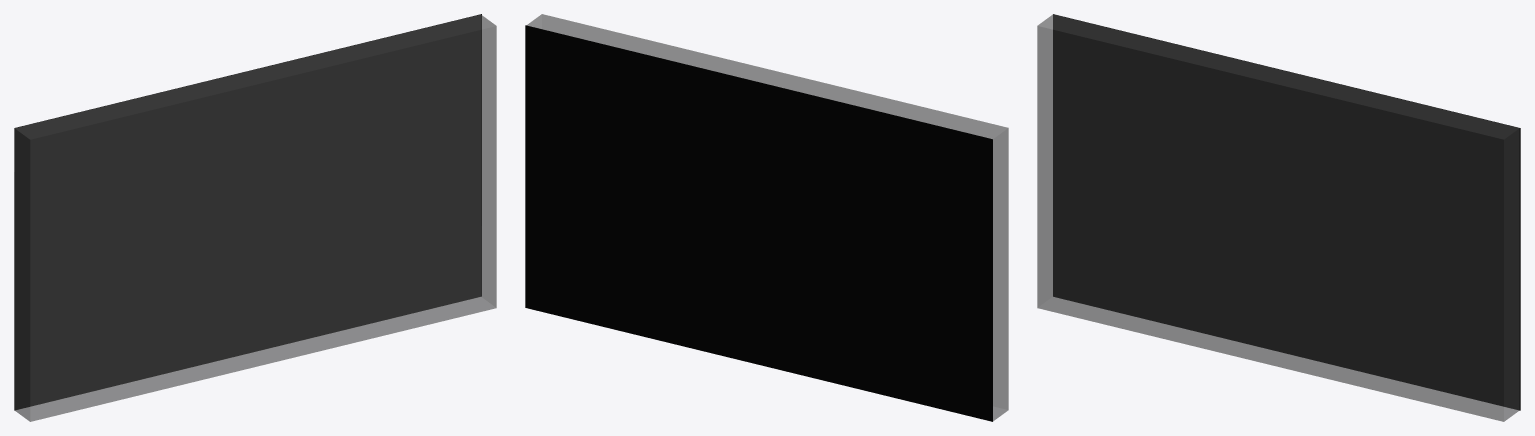
Rendered from MRV_SC_Cozinha_Vidro_Microondas.fbx.
3 renders of one model, left to right at view 1: azimuth 30°, elevation 25°; view 2: azimuth 150°, elevation 25°; view 3: azimuth 330°, elevation 25°, orthographic.
Parts seen in each view (by area): view 1: Vidro_Microondas; view 2: Vidro_Microondas; view 3: Vidro_Microondas.
Part boxes in pixels (x1,y1,x2,y2): Vidro_Microondas: (14, 14, 496, 421); Vidro_Microondas: (525, 14, 1008, 421); Vidro_Microondas: (1037, 14, 1520, 421).
Size of the model in its own units: 32.57 by 18.8 by 1.91.
